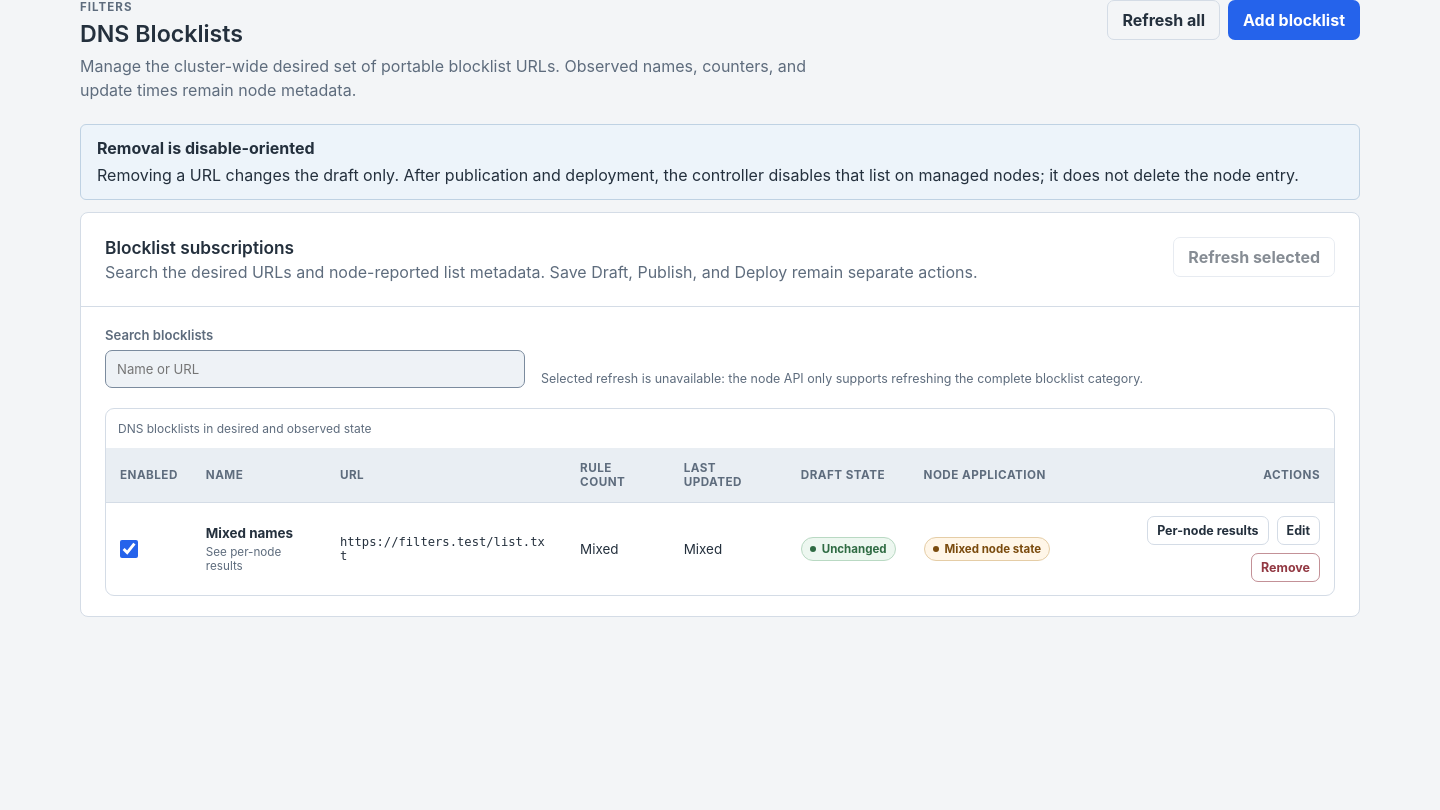
Scenario: DNS blocklists page › adds only valid portable URLs and Save Draft never publishes or deploys
Click the button "Add blocklist" at (1294, 20), box x1=1228 y1=0 x2=1360 y2=40
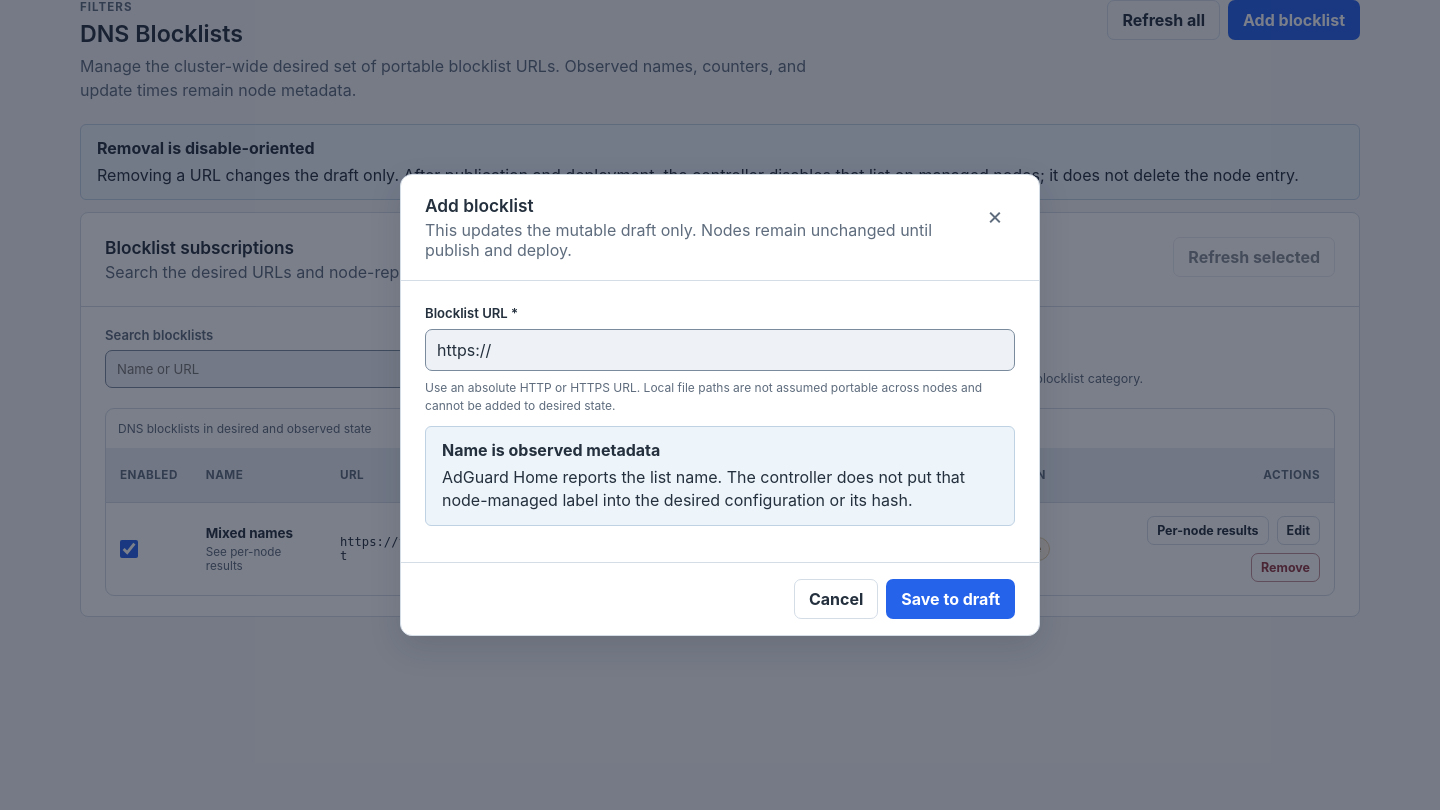
Replace the text in the field labelled "Blocklist URL *" with "/opt/adguard/list.txt" at (720, 350), box x1=425 y1=329 x2=1015 y2=371
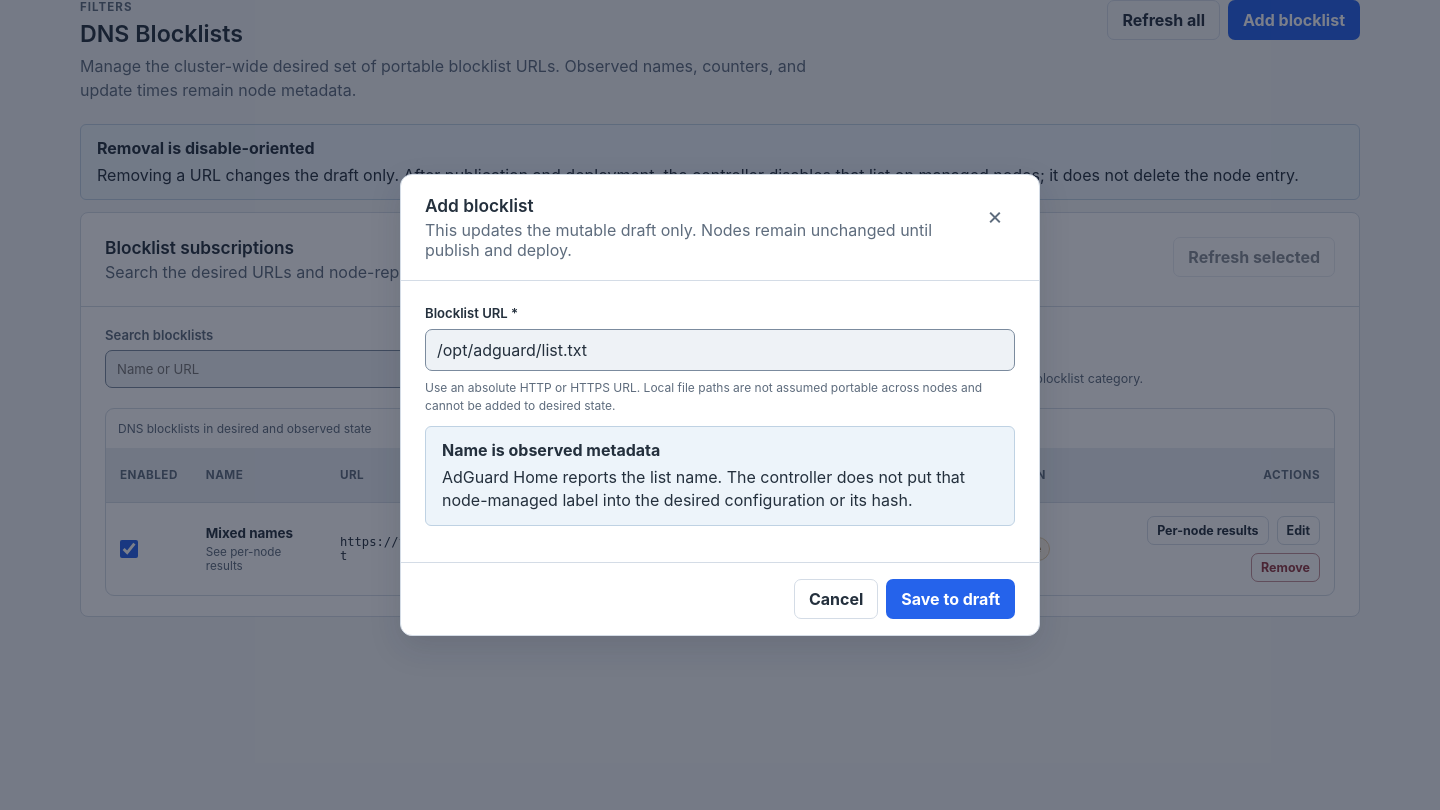
Click the button "Save to draft" at (951, 599), box x1=886 y1=579 x2=1015 y2=619
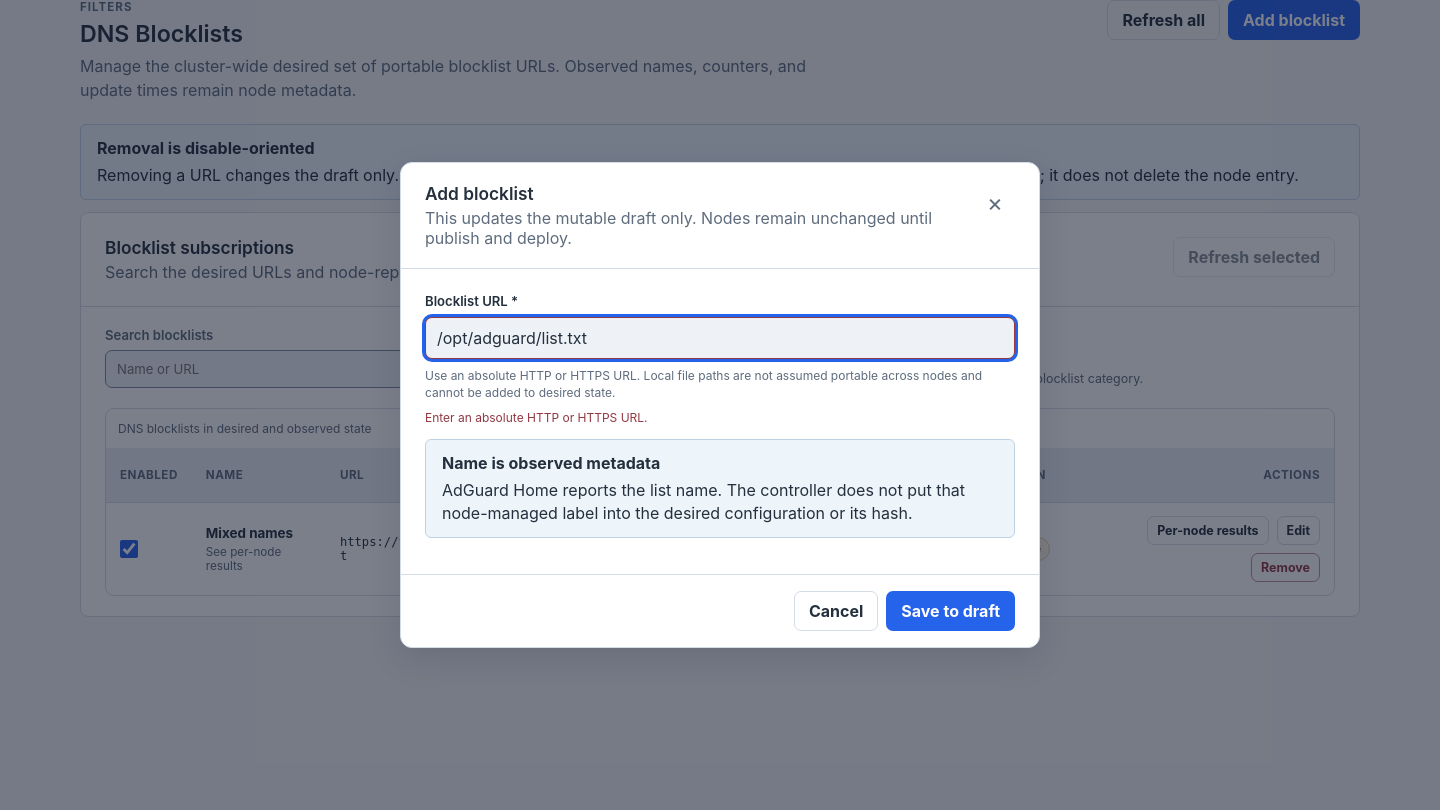
Check: the text "Local file paths are not assumed portable" is shown, box x1=425 y1=368 x2=982 y2=400
Check: the text "Enter an absolute HTTP or HTTPS URL." is shown, box x1=425 y1=410 x2=648 y2=425
Replace the text in the field labelled "Blocklist URL *" with "https://new.test/blocklist.txt" at (720, 338), box x1=425 y1=317 x2=1015 y2=359
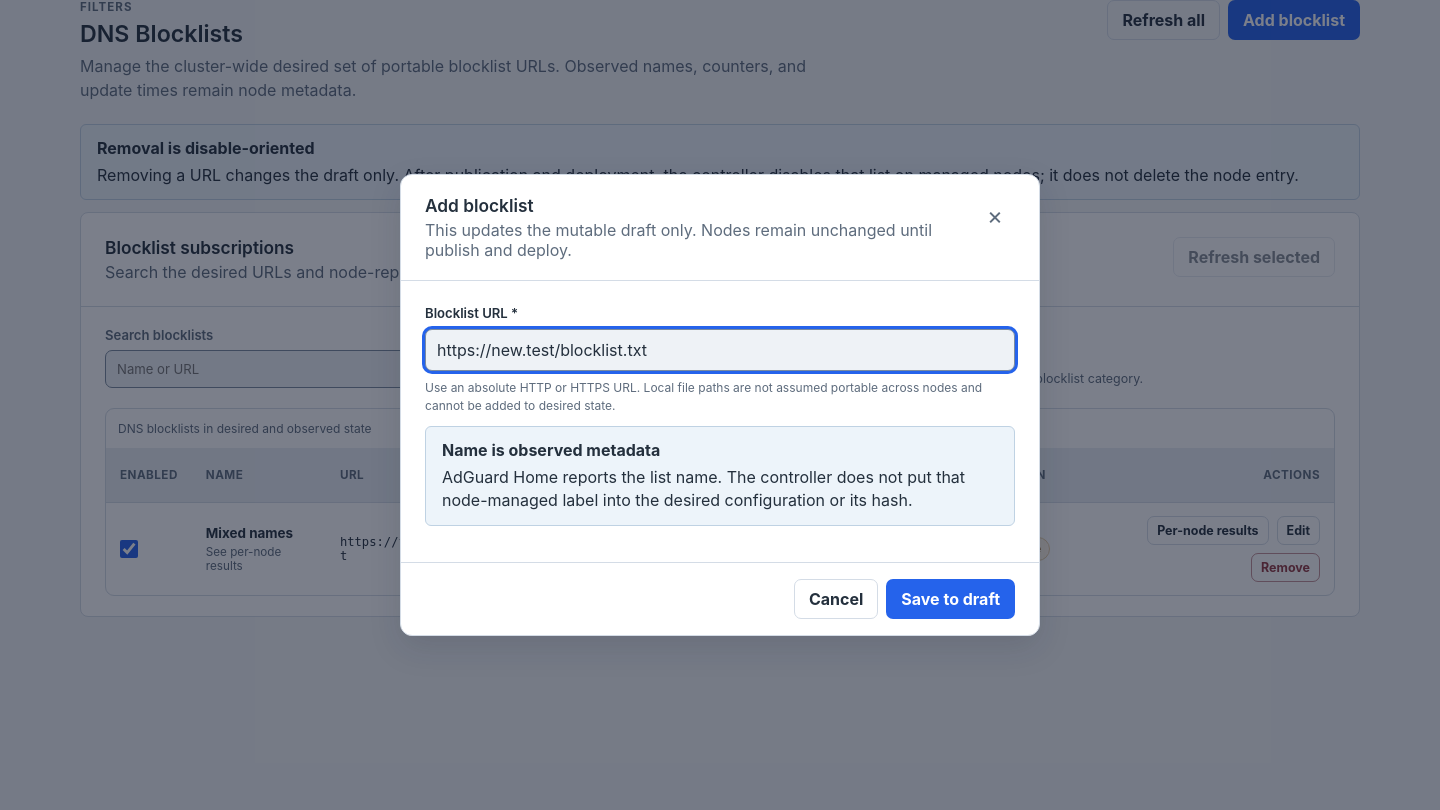
Click the button "Save to draft" at (951, 599), box x1=886 y1=579 x2=1015 y2=619
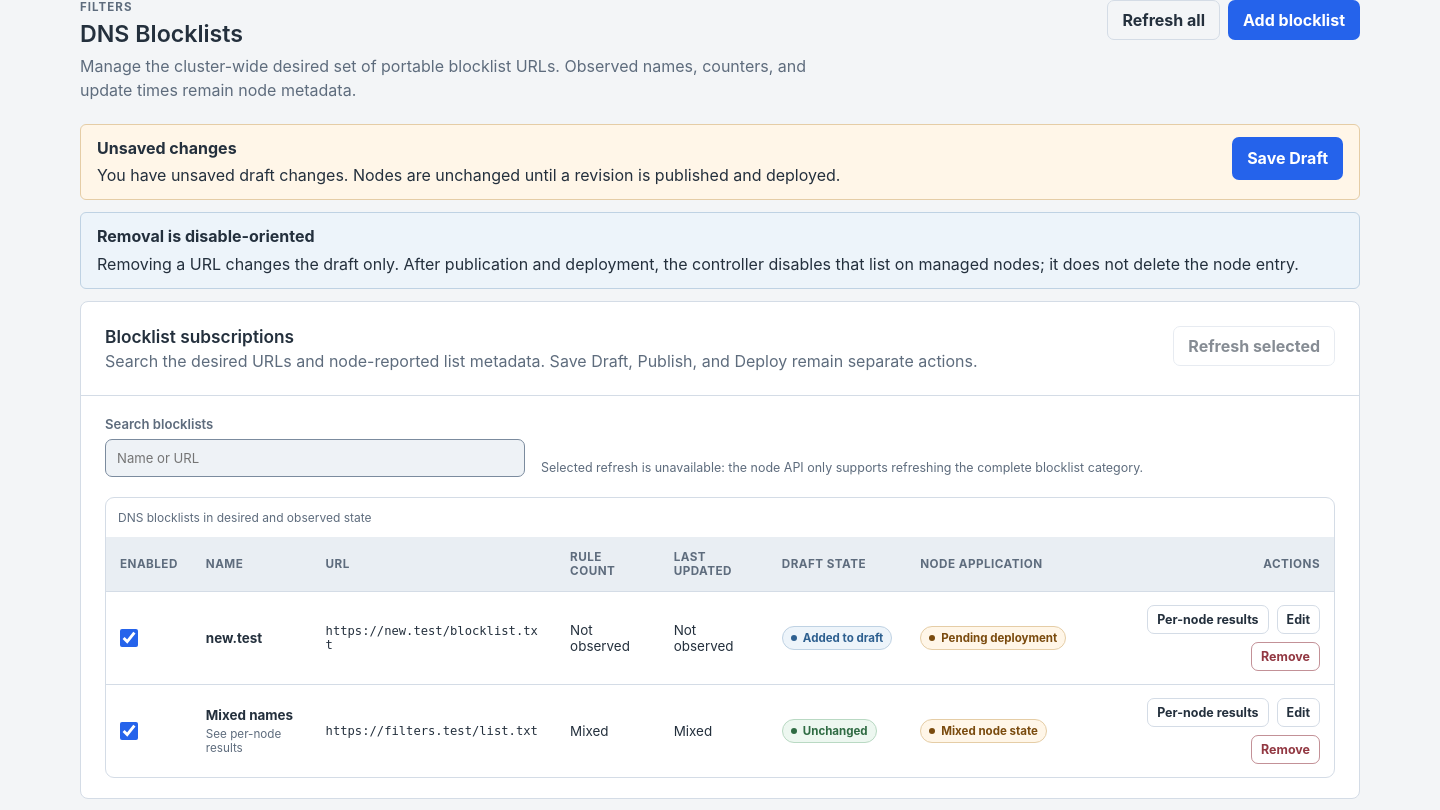
Check: the text "Added to draft" is shown, box x1=782 y1=626 x2=892 y2=650
Click the button "Save Draft" at (1288, 159), box x1=1232 y1=137 x2=1343 y2=180
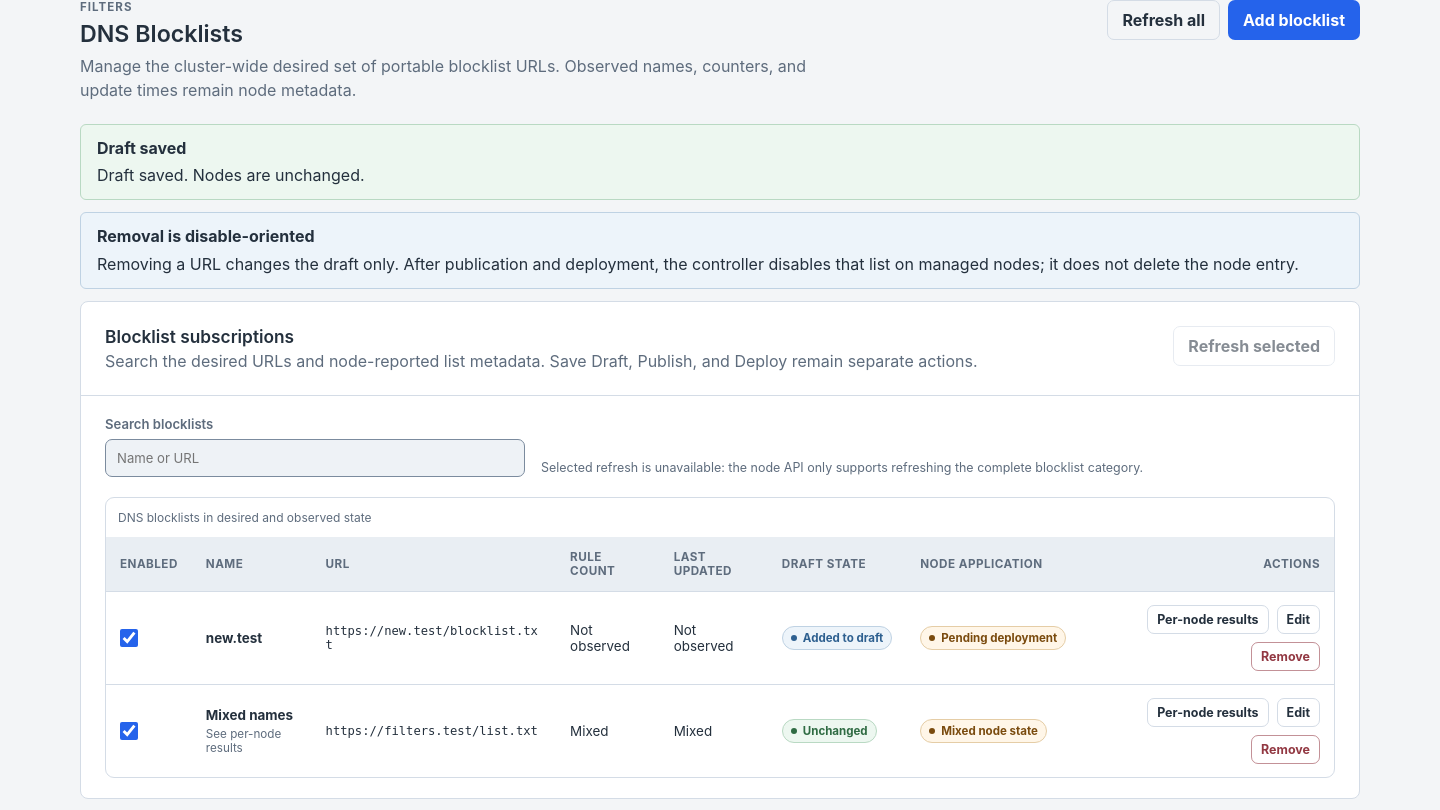
Check: the text "https://new.test/blocklist.txt" is shown, box x1=326 y1=624 x2=542 y2=652
Check: the text "Draft saved. Nodes are unchanged." is shown, box x1=97 y1=164 x2=365 y2=187
